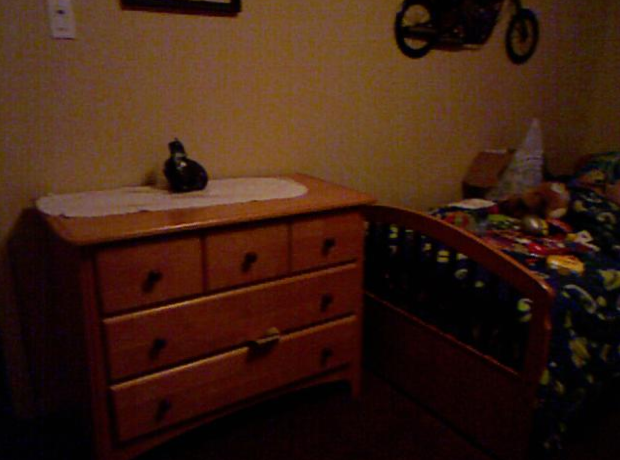cabinetDoor: (129, 312, 352, 366), (117, 245, 191, 297), (212, 235, 286, 279), (295, 222, 359, 257)
door: (32, 172, 376, 453)
